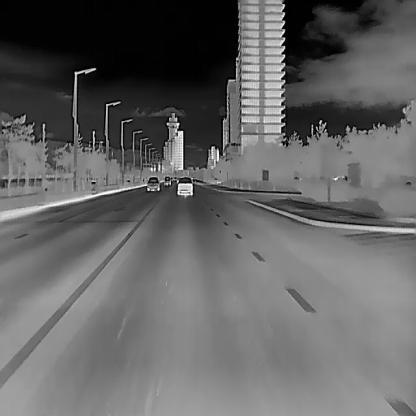car: (176, 175, 193, 196), (146, 176, 159, 192)
